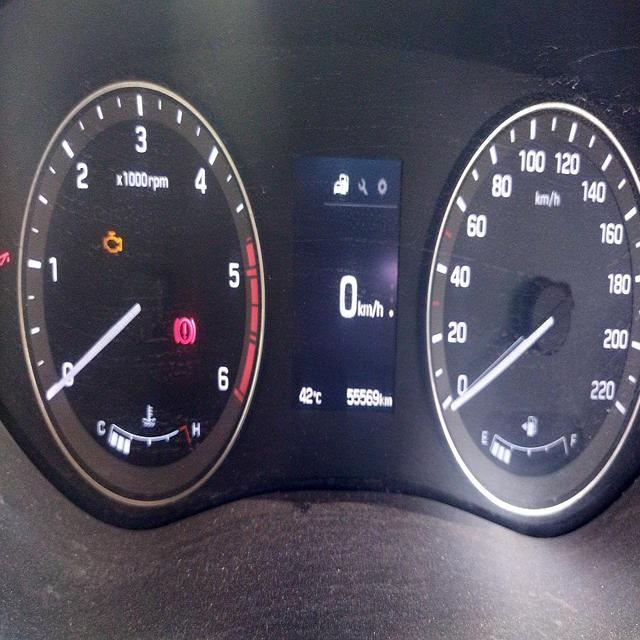odometer: (343, 385, 381, 408)
